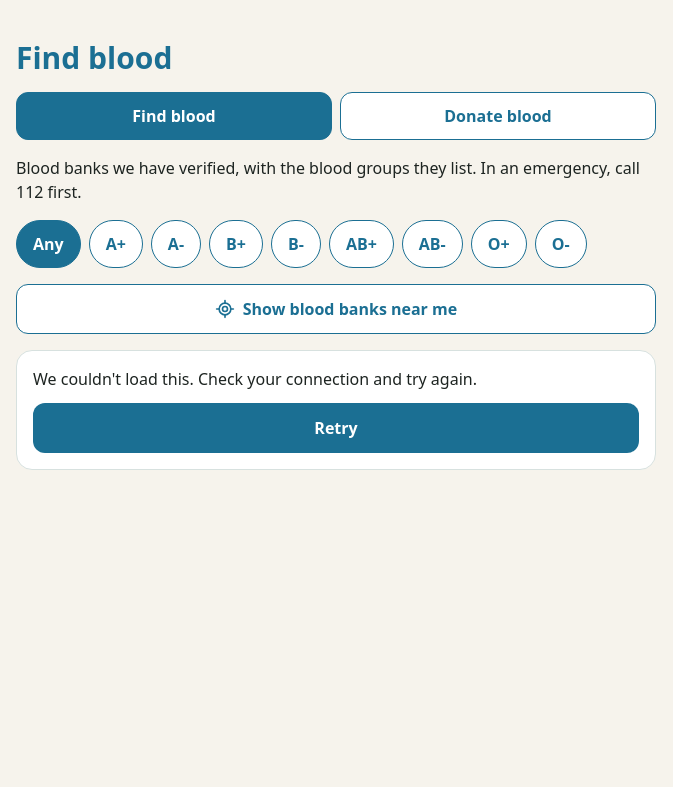
Find blood › Retry asks again after an error
Click the button "Retry". click: point(336, 428)
box: [33,403,639,453]
(page scrolled)
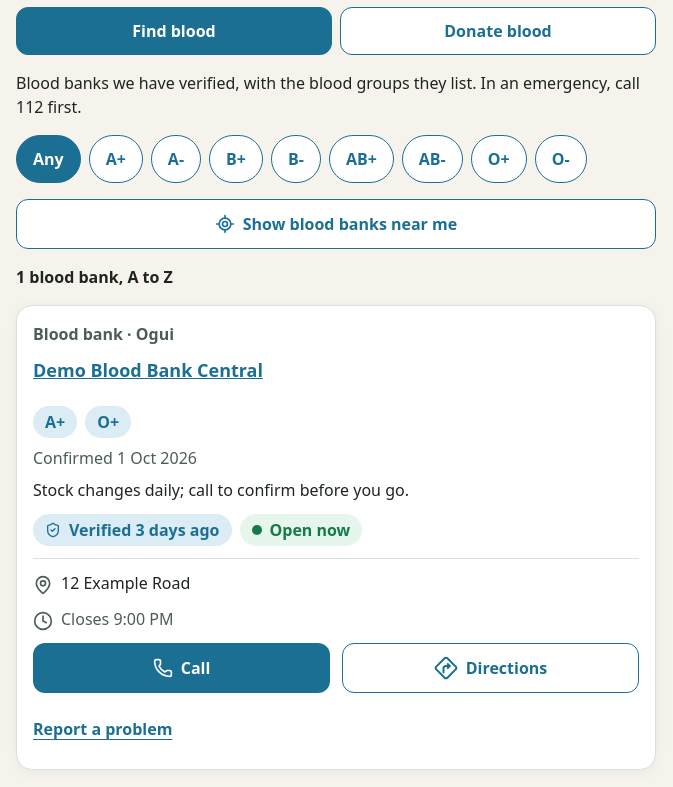
Now the element that starts with "Blood bank · Ogui" is shown, box [16,305,656,770]
